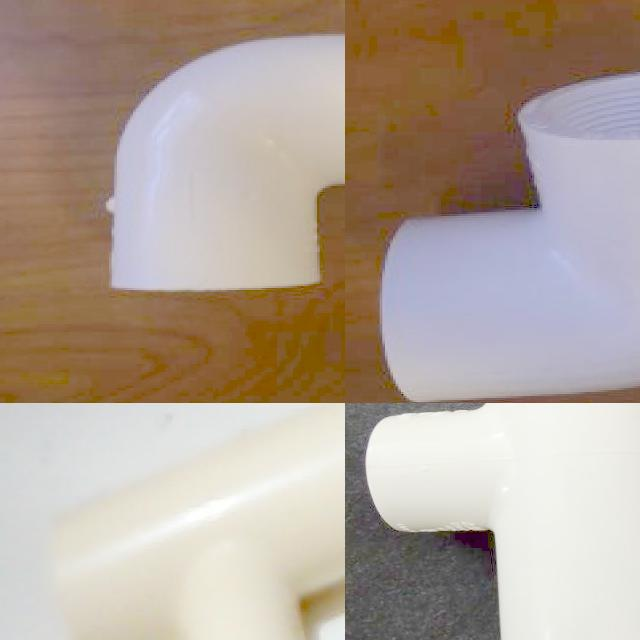L Joint: (107, 34, 345, 295)
T Joint: (50, 403, 345, 640), (361, 403, 640, 640)
